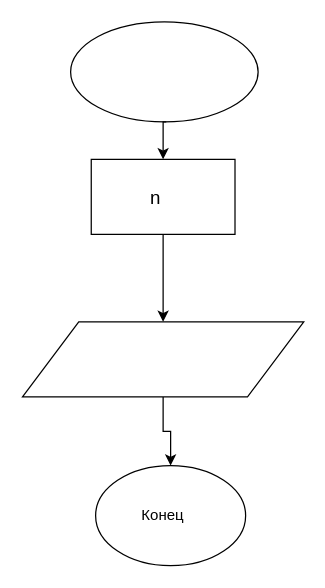
Some shapes in this 325 by 588 pixel diagram are drawn without their labels. Each missing label, with the centre of its shape:
"n = ord('a') + n - 1" belongs at point 162,359.
"Начало" belongs at point 163,71.
